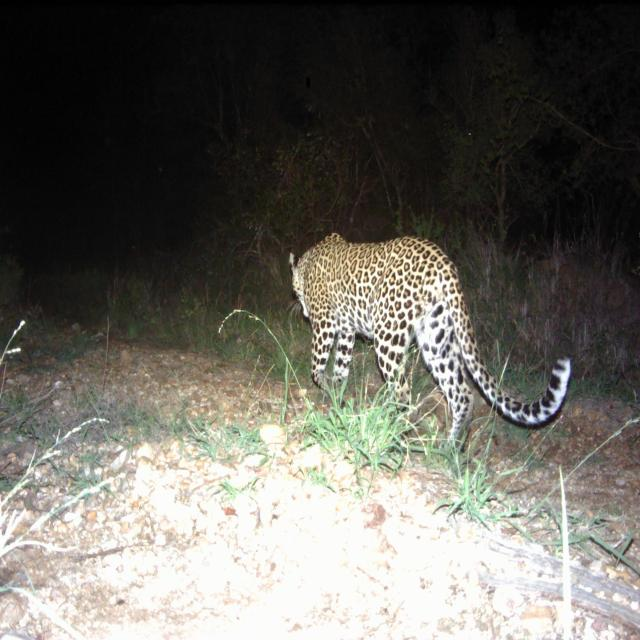Leopard: (292, 232, 558, 452)
